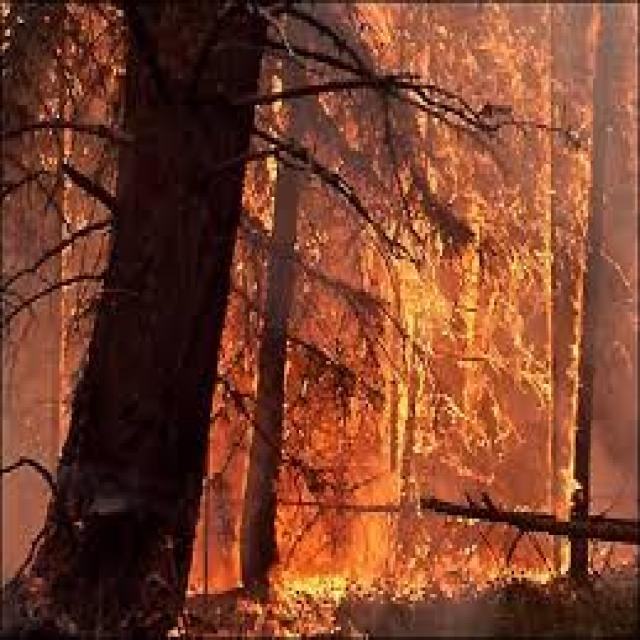Fire: (394, 204, 544, 508), (546, 107, 596, 588), (295, 564, 373, 618)
